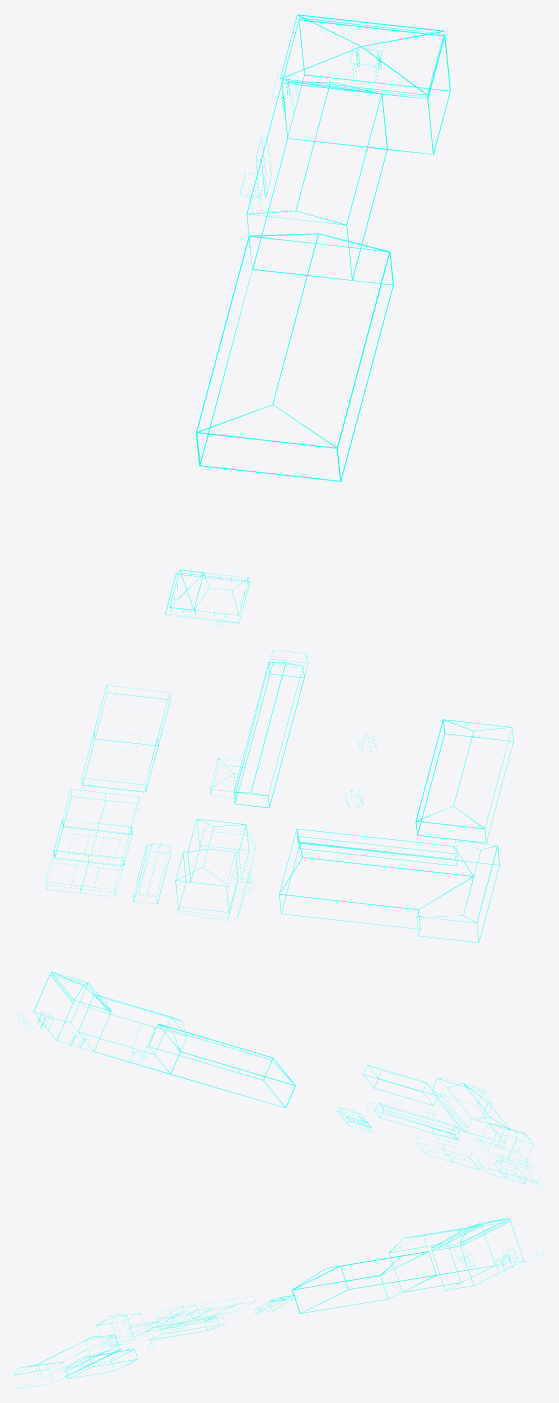
3 renders of one model, top to bottom at view 1: azimuth 30°, elevation 25°; view 2: azimuth 150°, elevation 25°; view 3: azimuth 270°, elevation 25°, orthographic. The views are drawn at different scales.
Parts seen in each view (by area): view 1: SketchUp.025; view 2: SketchUp.025; view 3: SketchUp.025.
Part boxes in pixels (box(x1,y1,x2,y2)): SketchUp.025: box(46, 14, 513, 942); SketchUp.025: box(16, 971, 544, 1184); SketchUp.025: box(14, 1218, 543, 1388).
Bounding box in the file's own units: 10.86 × 7.19 × 14.04.
